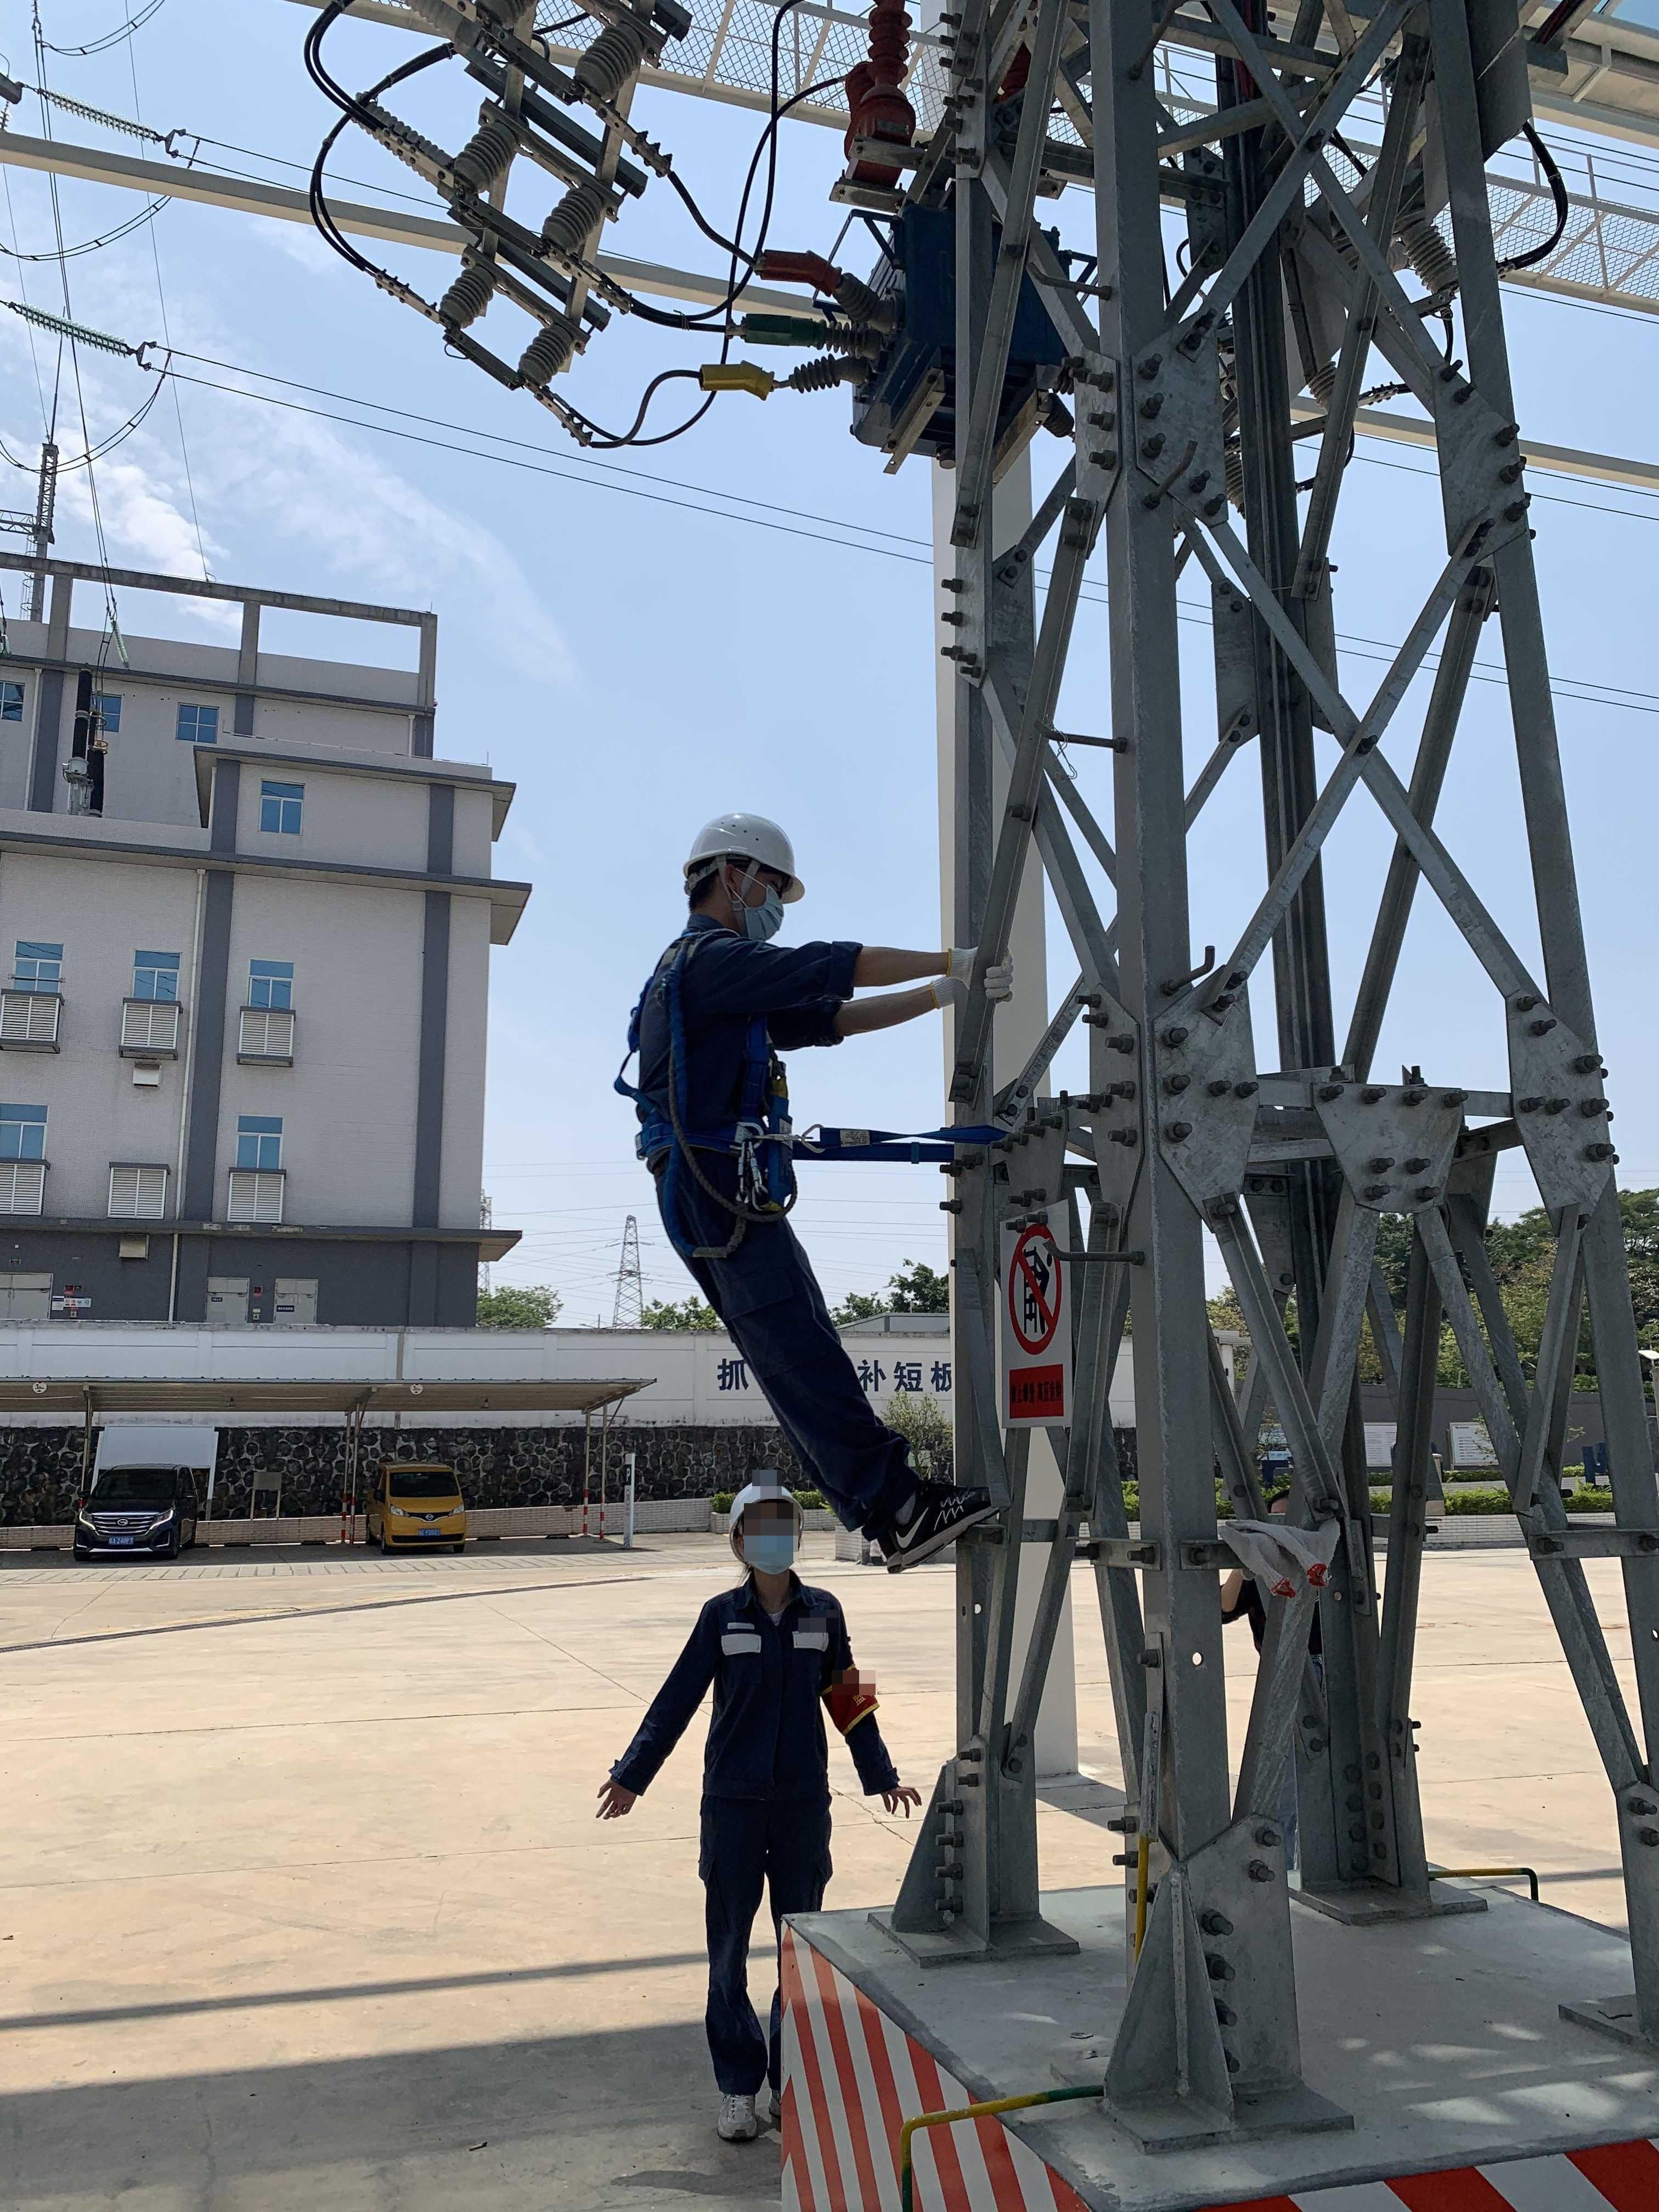downsuit: (655, 1165, 906, 1507), (697, 1803, 835, 2107)
upsuit: (629, 921, 868, 1170), (631, 1580, 877, 1808)
wrongtop: (823, 939, 955, 1045)
